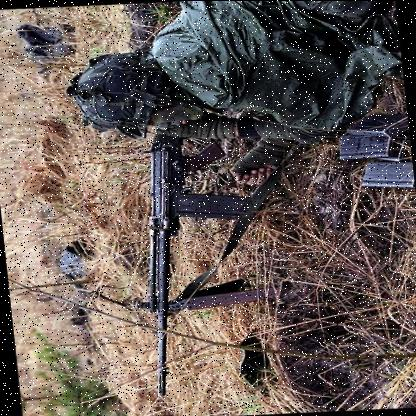rifle: (118, 127, 258, 396)
